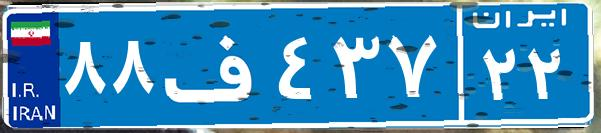2: (475, 38, 525, 113), (525, 38, 570, 115)
3: (330, 28, 385, 110)
4: (273, 28, 330, 110)
7: (385, 28, 445, 110)
8: (57, 26, 110, 107), (110, 28, 158, 105)
ف: (158, 15, 273, 115)
